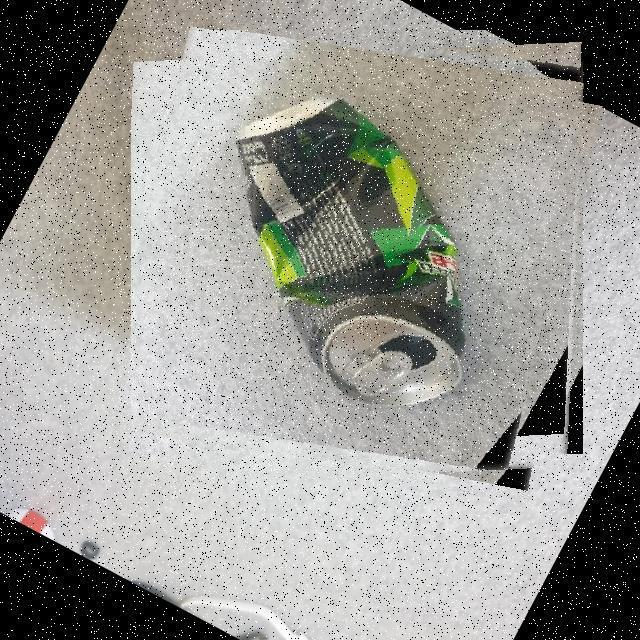recyclable: (131, 30, 587, 487)
